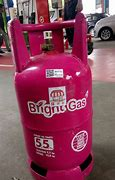bright_gas: (8, 19, 95, 180)
